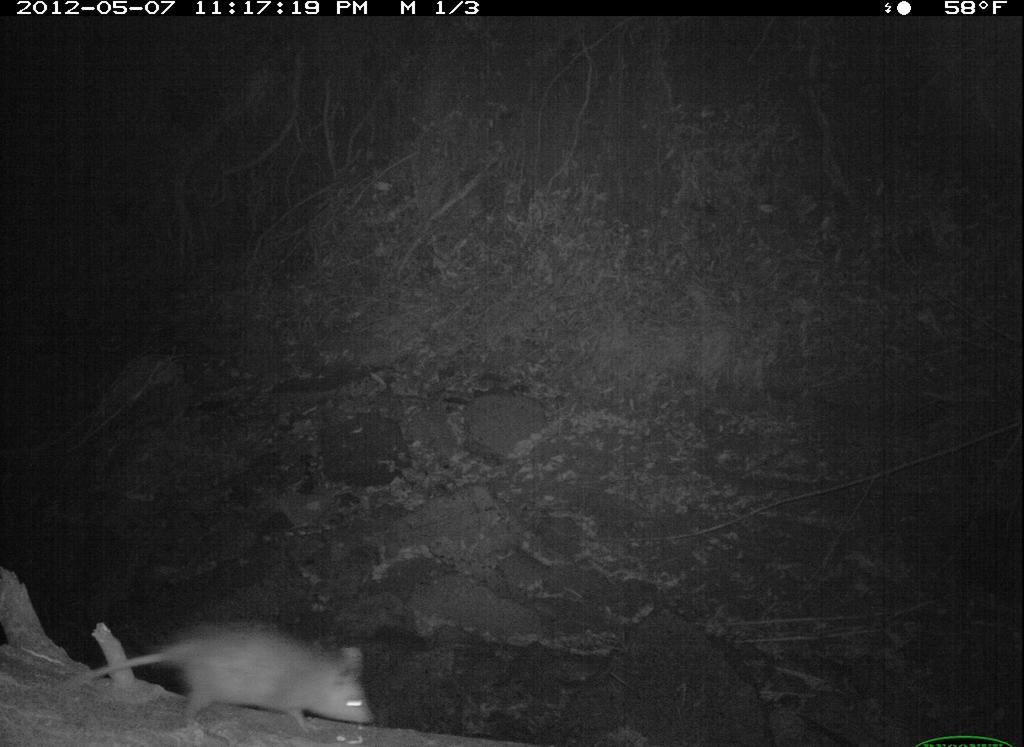opossum: (48, 616, 376, 742)
